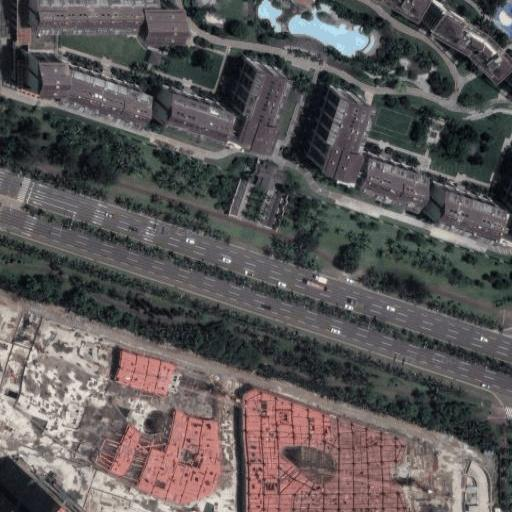building: (243, 388, 407, 512), (131, 400, 224, 509), (24, 47, 143, 112), (16, 0, 168, 41), (415, 0, 499, 73), (304, 86, 360, 171), (146, 79, 219, 129), (107, 343, 176, 395), (420, 181, 490, 232), (347, 148, 414, 198), (229, 56, 275, 108), (222, 99, 264, 138), (221, 170, 251, 214), (496, 55, 512, 89), (500, 158, 512, 203), (499, 202, 512, 234)
